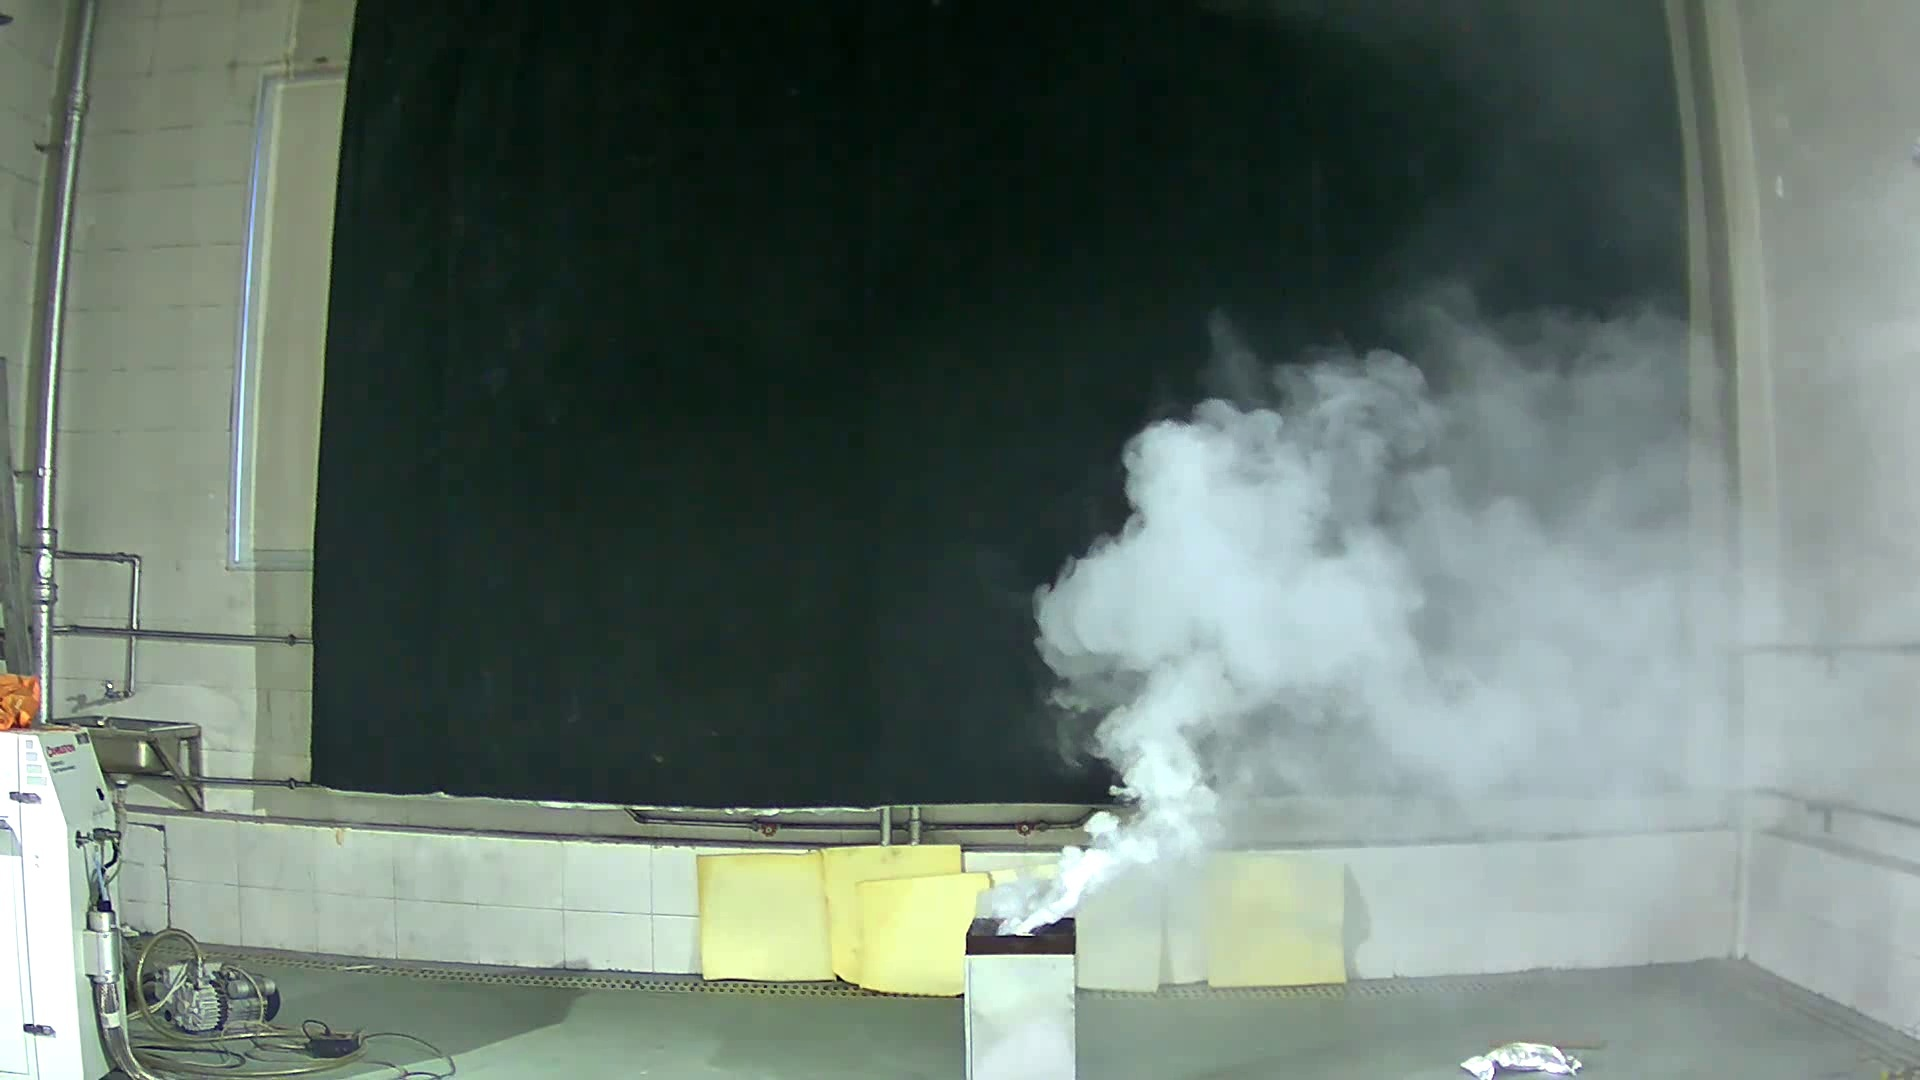smoke: (978, 228, 1754, 936)
